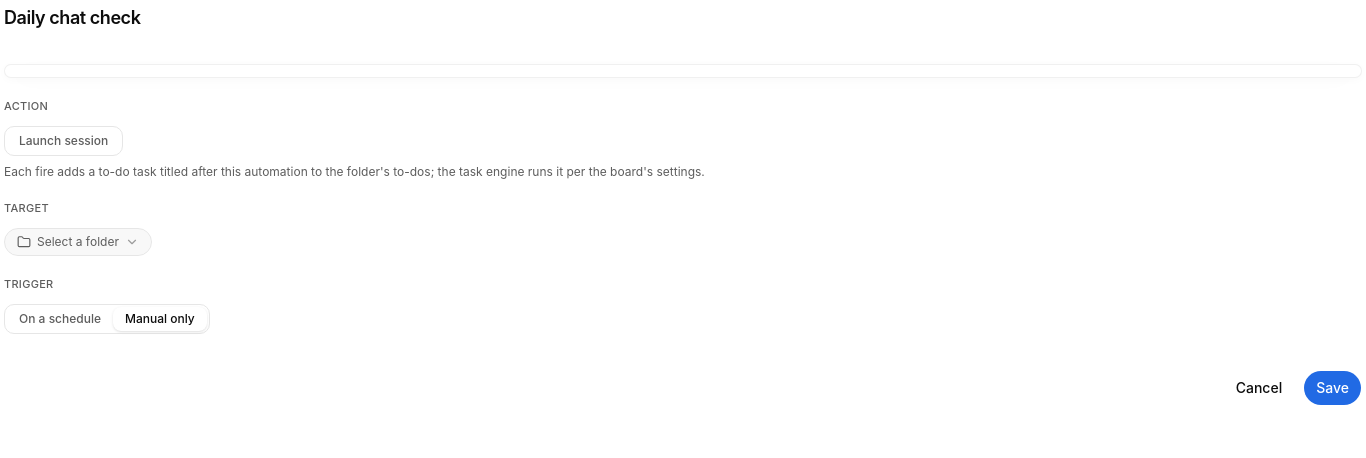
Test: Chat automation editor › requires a project for task-board automations even when no folders exist
Click the button "Save": point(1333, 388) [1303, 370, 1362, 406]
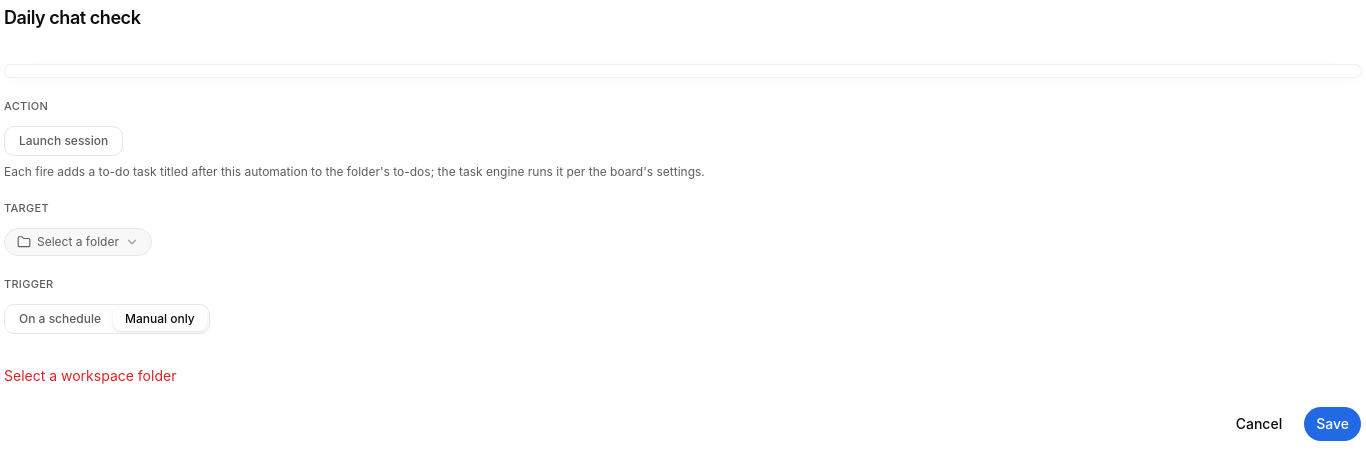
Now the message reads "Select a workspace folder", box [4, 367, 176, 384]
